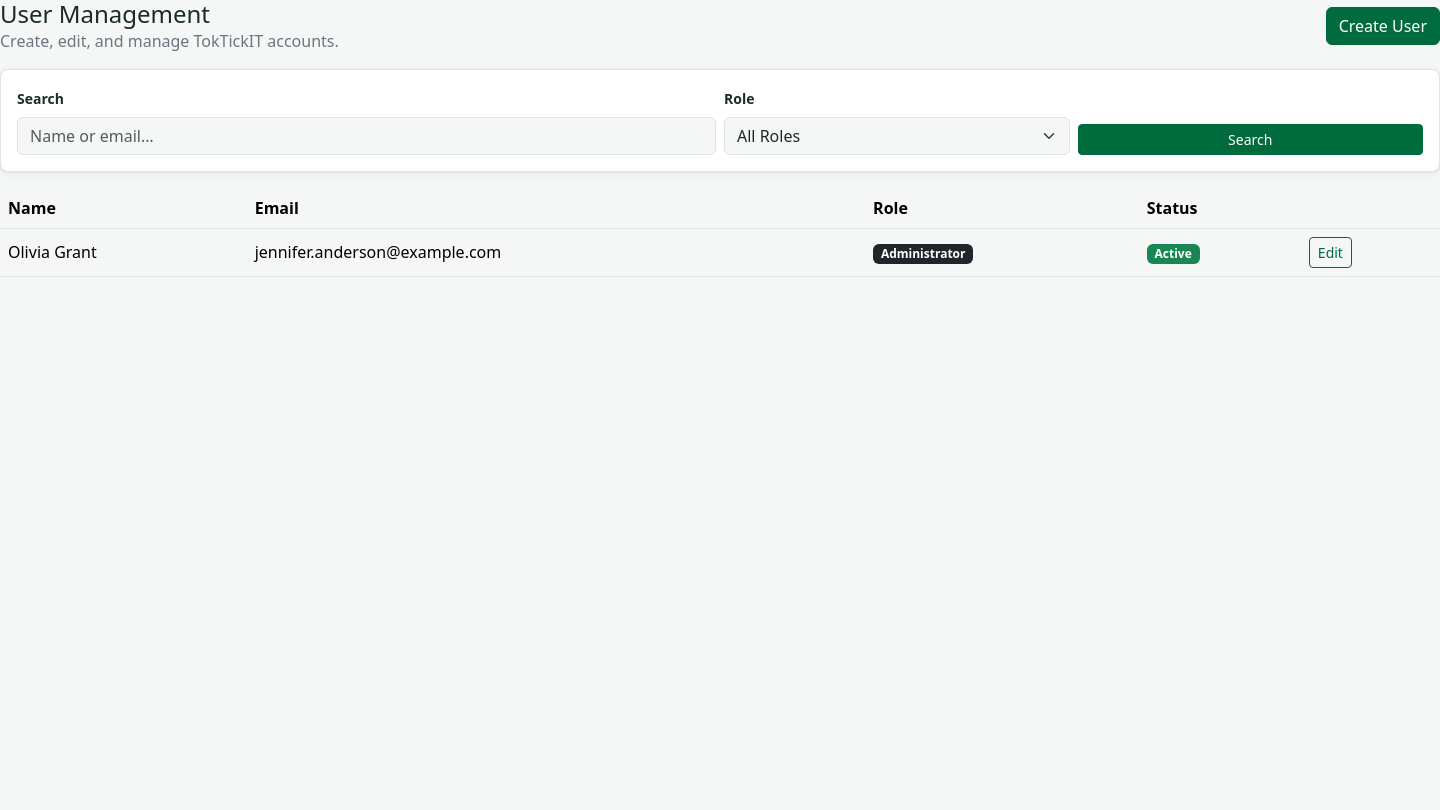
Test: UserManagement › edits an existing user, pre-filling the form, and shows a last-admin error inline (FR-16, FR-18, BR-26, AC-11)
Click the button "Edit": (1330, 252) [1309,237,1352,268]
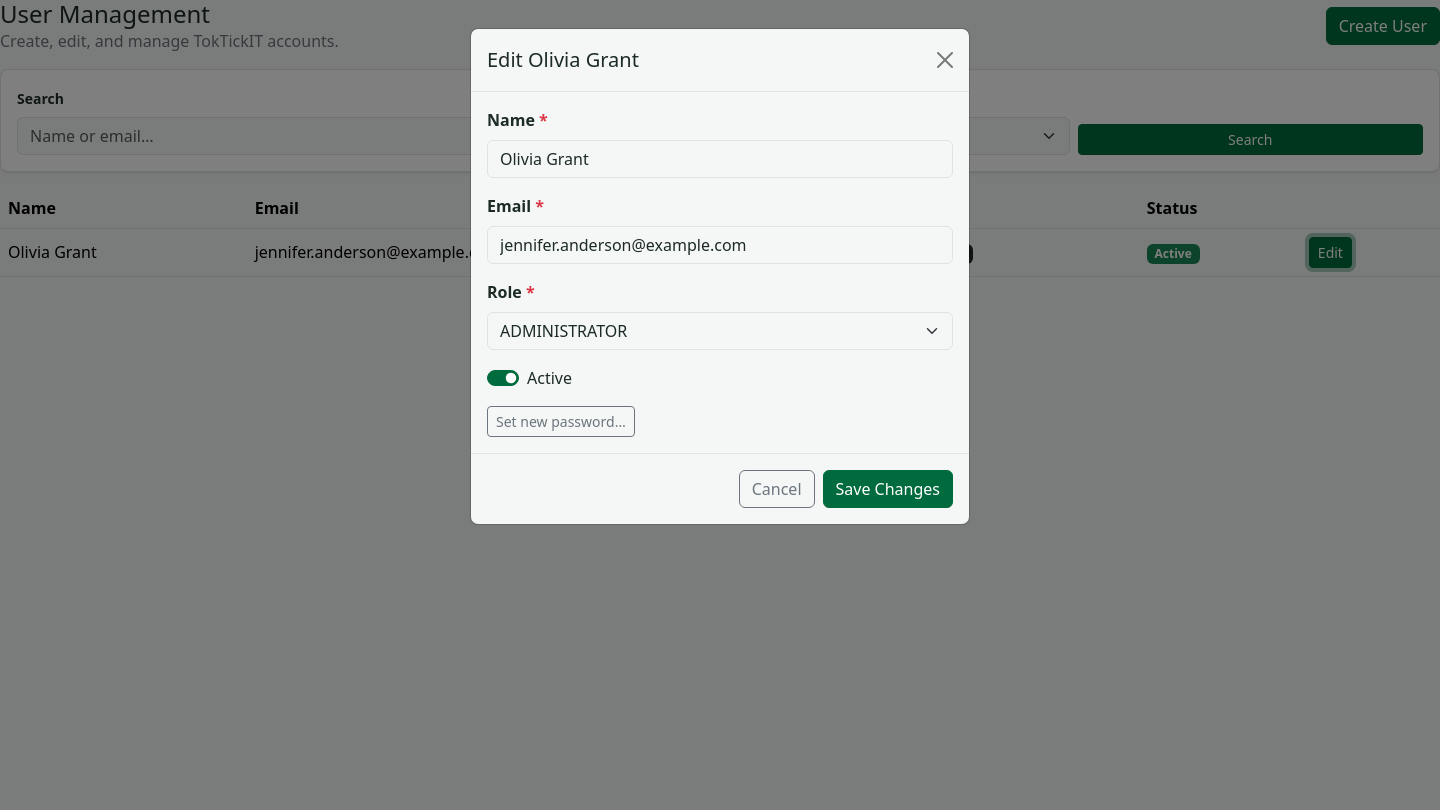
Expected: the field labelled "Name *" holds "Olivia Grant", [487,140,953,178]
Expected: the field labelled "Email *" holds "jennifer.anderson@example.com", [487,226,953,264]
Click the checkbox labelled "Active": (503, 378) [487,370,519,386]
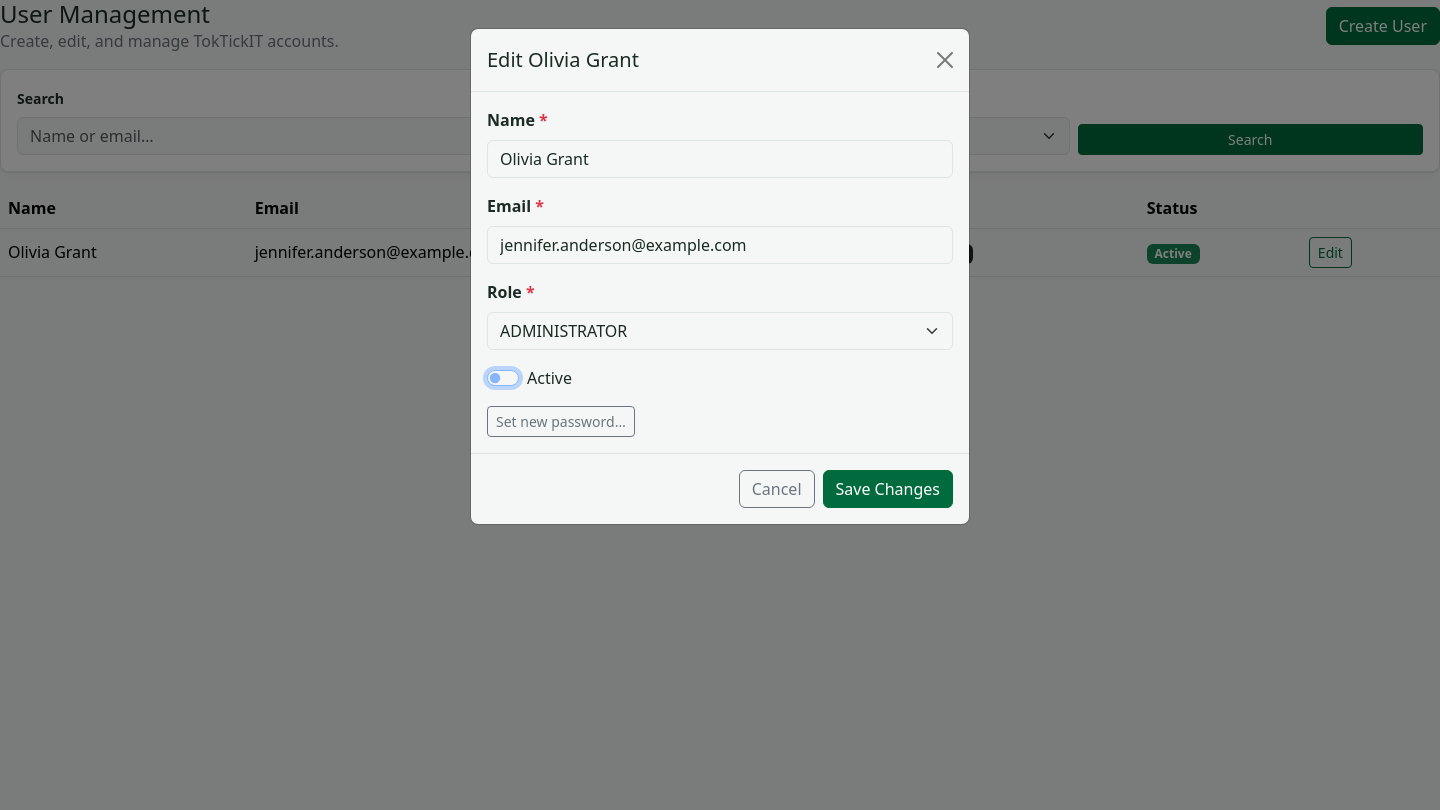
Click the button "Save Changes": (888, 489) [822,470,953,508]
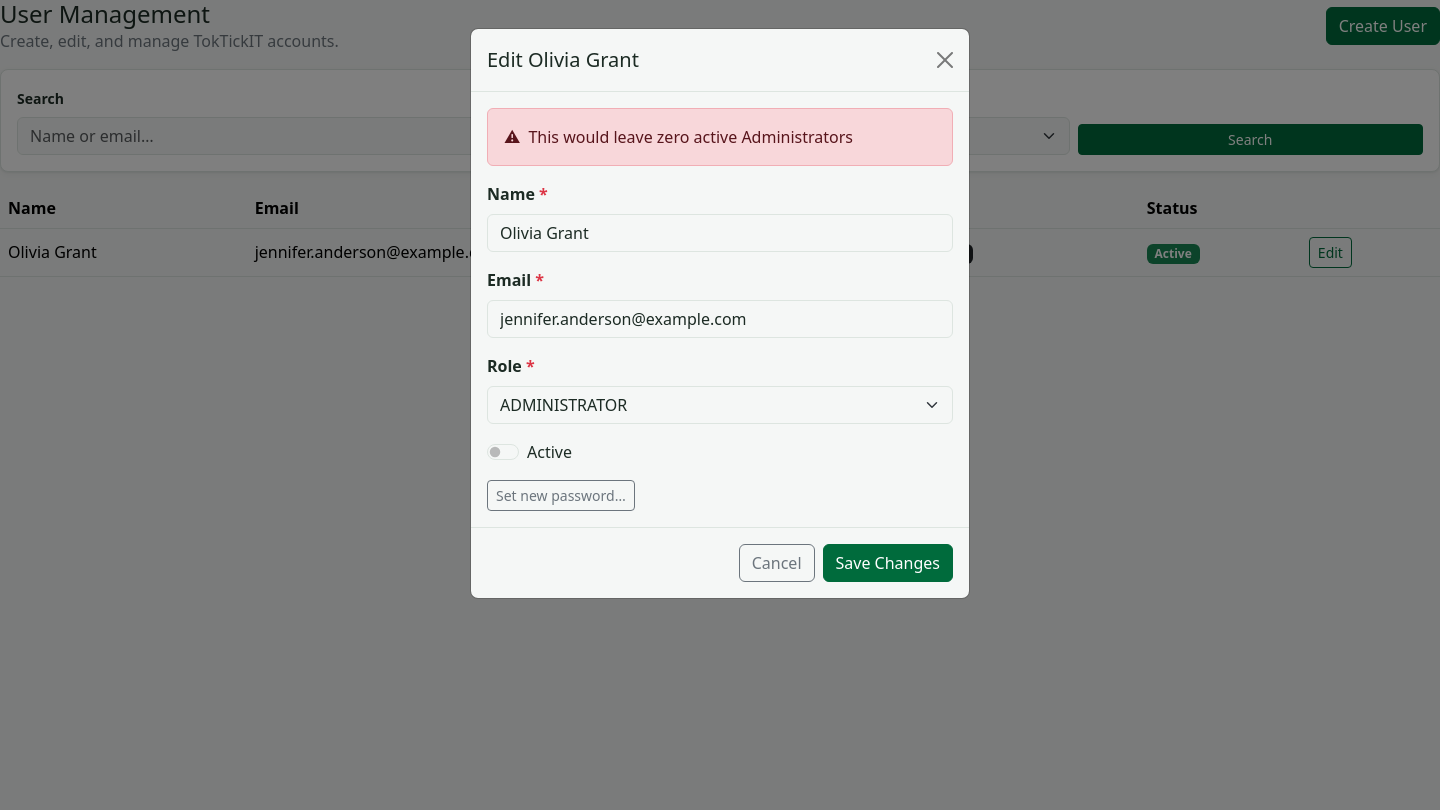
Expected: the text "This would leave zero active Administrators" is shown, [528,125,853,149]
